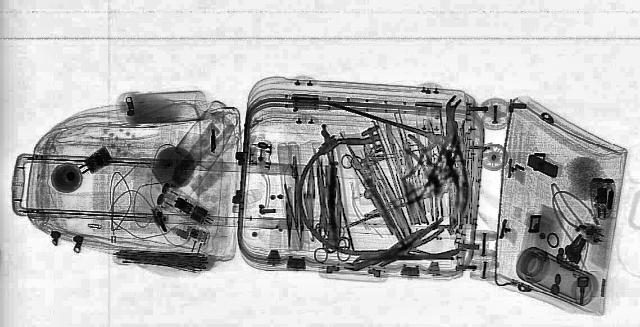Scissors: (313, 213, 352, 261), (336, 153, 378, 189)
